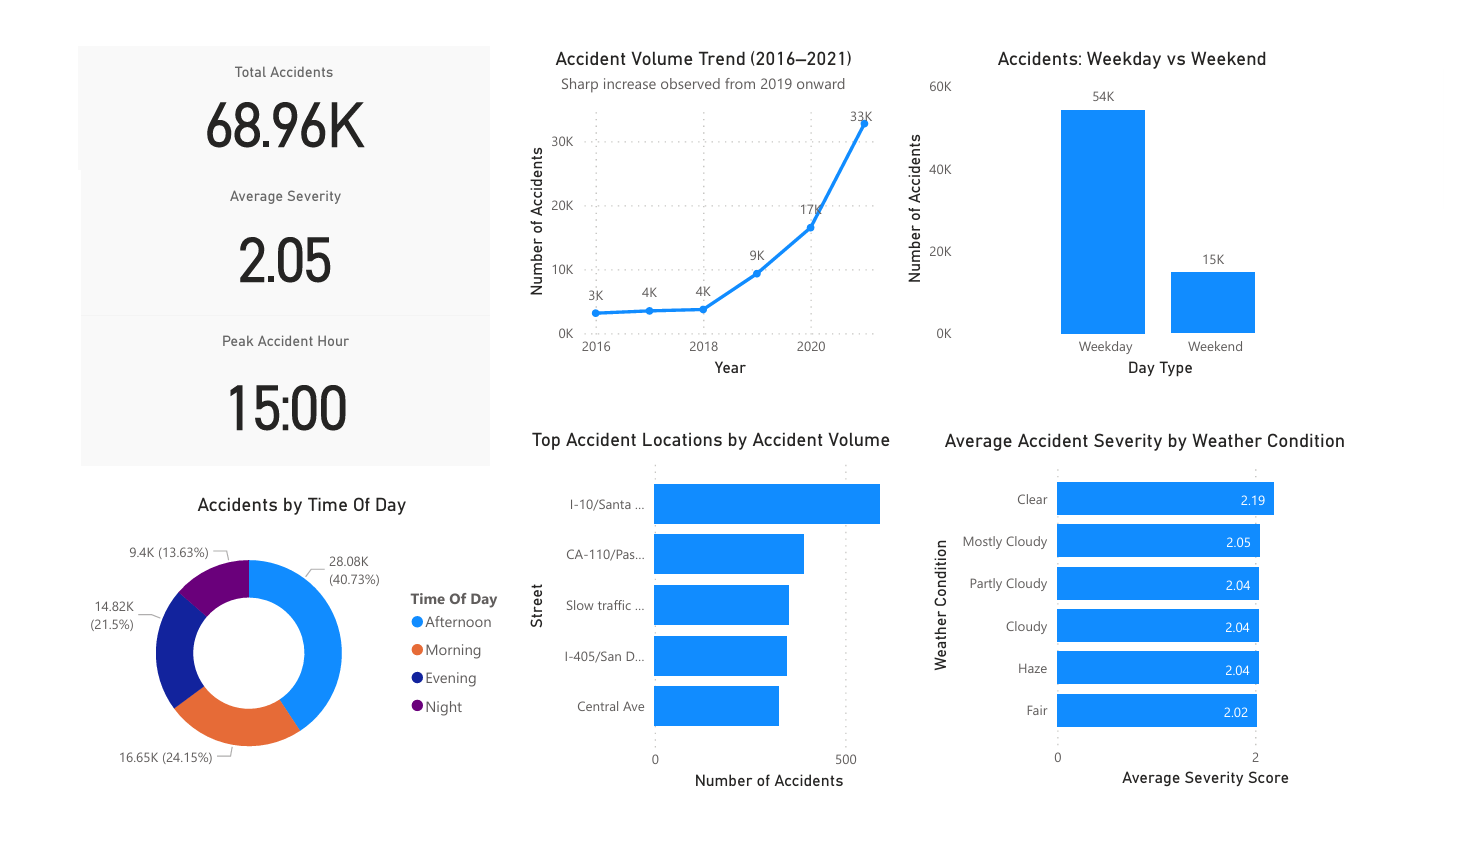

The page's visual inventory and layout, read from the dashboard file:
{"tool":"powerbi","page":{"name":"Page 1","canvas":[1280,720],"ordinal":0},"visuals":[{"type":"card","title":"Total Accidents","fields":{"Values":["CountNonNull(Table1.ID)"]},"box":[56.2,17.5,368.8,111.2],"z":0},{"type":"card","title":"Average Severity","fields":{"Values":["Avg(Table1.Severity)"]},"box":[58.8,128.8,366.2,130],"z":1000},{"type":"card","title":"Peak Accident Hour","fields":{"Values":["Table1.MostDangerousHour"]},"box":[58.8,258.8,366.2,135],"z":2000},{"type":"lineChart","title":"Accident Volume Trend (2016–2021)","fields":{"Category":["Table1.DateOnly.Variation.Date Hierarchy.Year","Table1.DateOnly.Variation.Date Hierarchy.Quarter","Table1.DateOnly.Variation.Date Hierarchy.Month","Table1.DateOnly.Variation.Date Hierarchy.Day"],"Y":["CountNonNull(Table1.Start_Time)"]},"box":[453.8,17.5,325,300],"z":3000},{"type":"clusteredColumnChart","title":"Accidents: Weekday vs Weekend","fields":{"Category":["Table1.Weekend"],"Y":["CountNonNull(Table1.Start_Time)"]},"box":[792.5,17.5,416.2,300],"z":4000},{"type":"barChart","title":"Average Accident Severity by Weather Condition","fields":{"Category":["Table1.Weather_Condition"],"Y":["Avg(Table1.Severity)"]},"box":[816.2,361.2,392.5,325],"z":5000},{"type":"clusteredBarChart","title":"Top Accident Locations by Accident Volume","fields":{"Y":["Table1.Total Accidents"],"Category":["Table1.Clean_Street"]},"box":[453.8,360,338.8,327.5],"z":6000},{"type":"donutChart","title":"Accidents by Time Of Day","fields":{"Category":["Table1.Time Of Day"],"Y":["CountNonNull(Table1.Accidents)"]},"box":[58.8,417.5,395,268.8],"z":6001}]}

Visuals, with their boxes on the page's 1280x720 design canvas (x1, y1, x2, y2). These are canvas units, not pixel positions in the 1461x855 screenshot, which may show the page scaled, cropped or inside an application window:
"Total Accidents" card: detection(56, 18, 425, 129)
"Average Severity" card: detection(59, 129, 425, 259)
"Peak Accident Hour" card: detection(59, 259, 425, 394)
"Accident Volume Trend (2016–2021)" lineChart: detection(454, 18, 779, 318)
"Accidents: Weekday vs Weekend" clusteredColumnChart: detection(792, 18, 1209, 318)
"Average Accident Severity by Weather Condition" barChart: detection(816, 361, 1209, 686)
"Top Accident Locations by Accident Volume" clusteredBarChart: detection(454, 360, 793, 688)
"Accidents by Time Of Day" donutChart: detection(59, 418, 454, 686)
